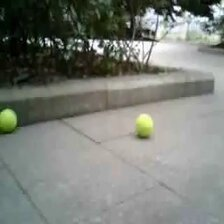tennis: (1, 106, 19, 133), (135, 114, 154, 135)
